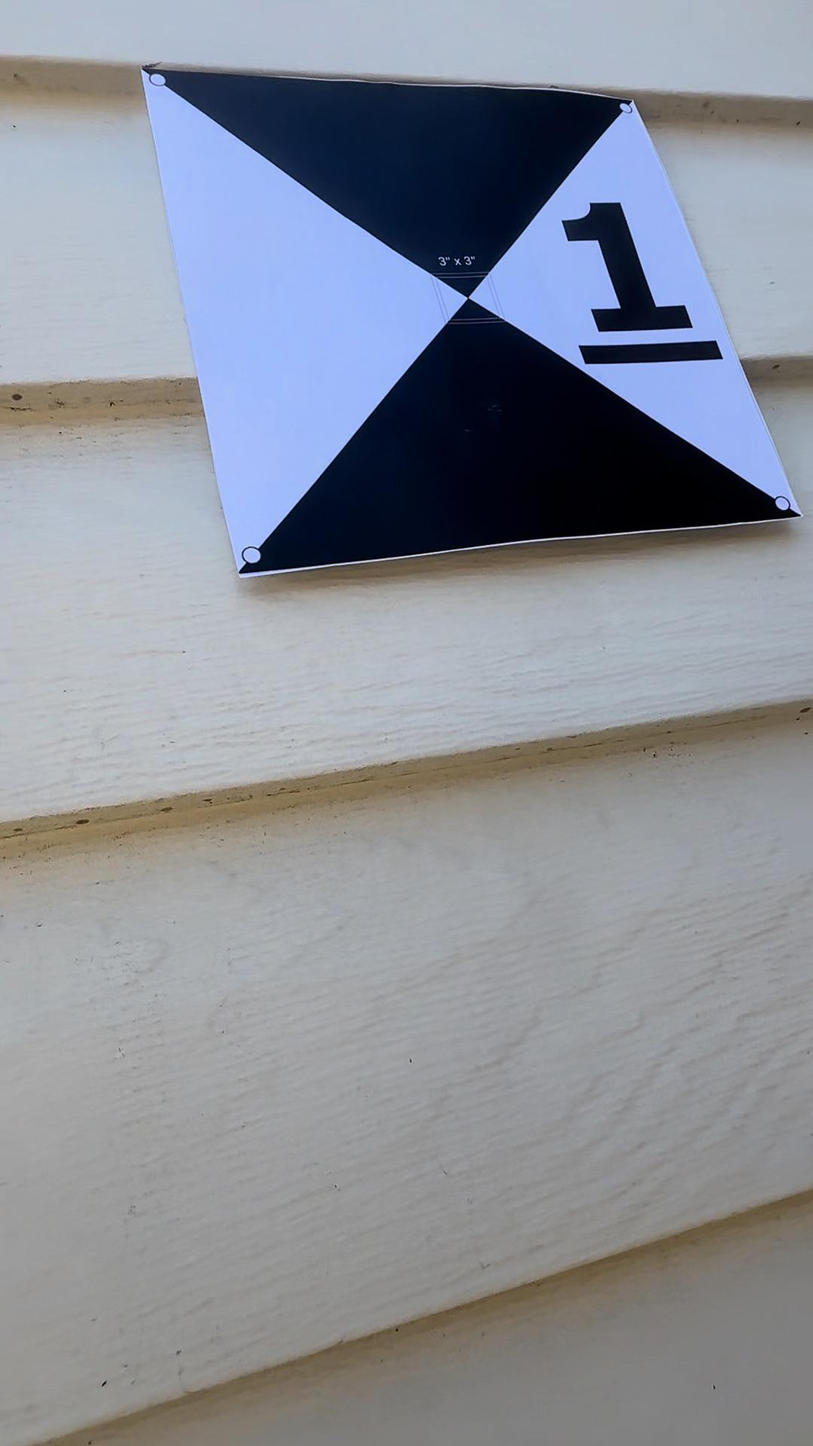target1: (126, 53, 812, 612)
